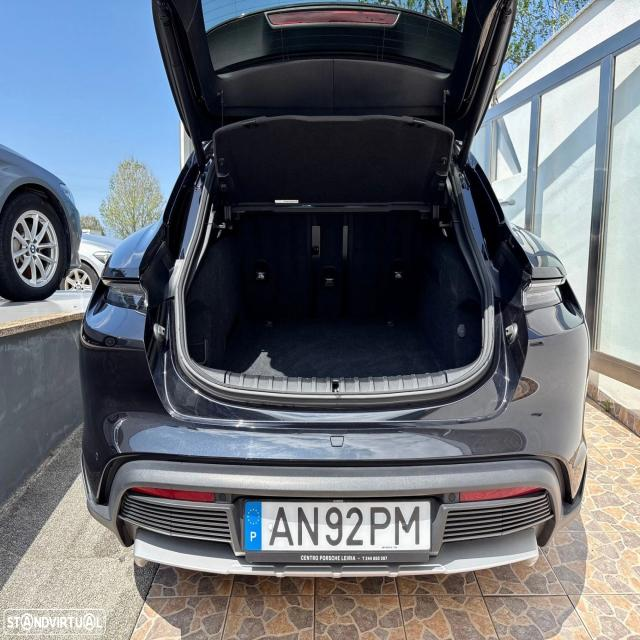portuguese-license-plates: (242, 500, 432, 562)
